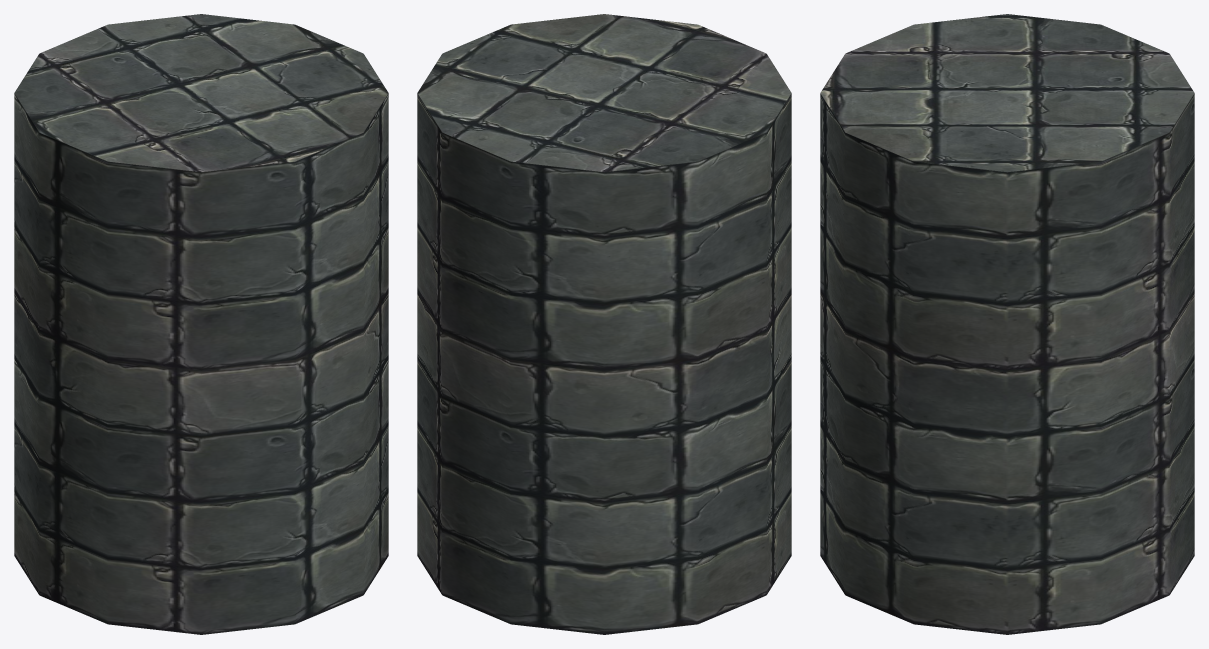
File: PIL0110010.FBX
3 renders of one model, left to right at view 1: azimuth 30°, elevation 25°; view 2: azimuth 150°, elevation 25°; view 3: azimuth 270°, elevation 25°, orthographic.
Visible parts, largest first — view 1: smPIL0110010; view 2: smPIL0110010; view 3: smPIL0110010.
Part boxes in pixels (box(x1,y1,x2,y2)): smPIL0110010: box(14, 14, 388, 634); smPIL0110010: box(417, 14, 791, 634); smPIL0110010: box(820, 14, 1194, 634).
Size of the model in its own units: 0.6275 by 0.8557 by 0.6275.
Materials: 1 (1 with a texture image).
